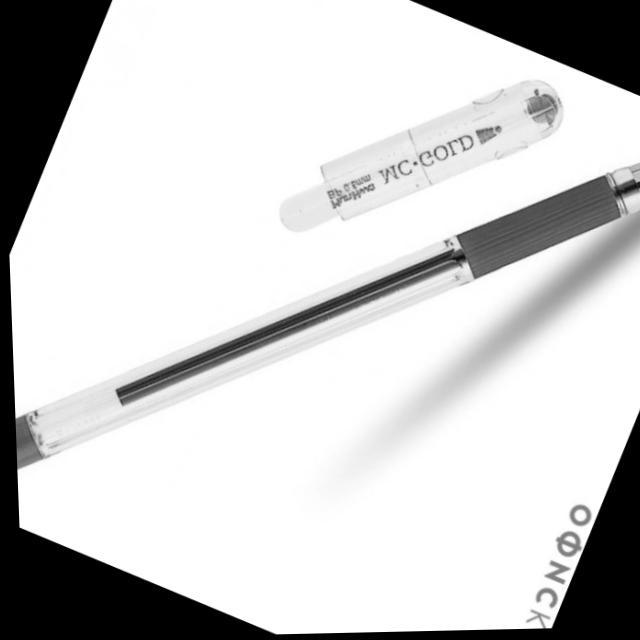pencil: (10, 78, 631, 449)
